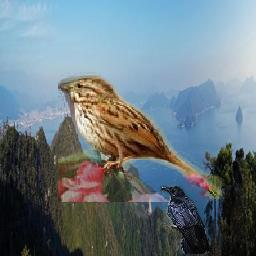Crow: (161, 186, 210, 255)
Sparrow: (59, 72, 226, 202)
